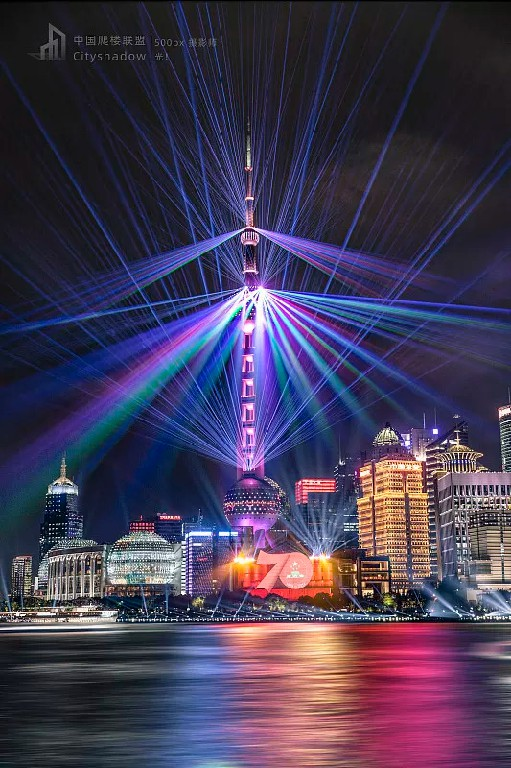Oriental: (222, 111, 282, 531)
